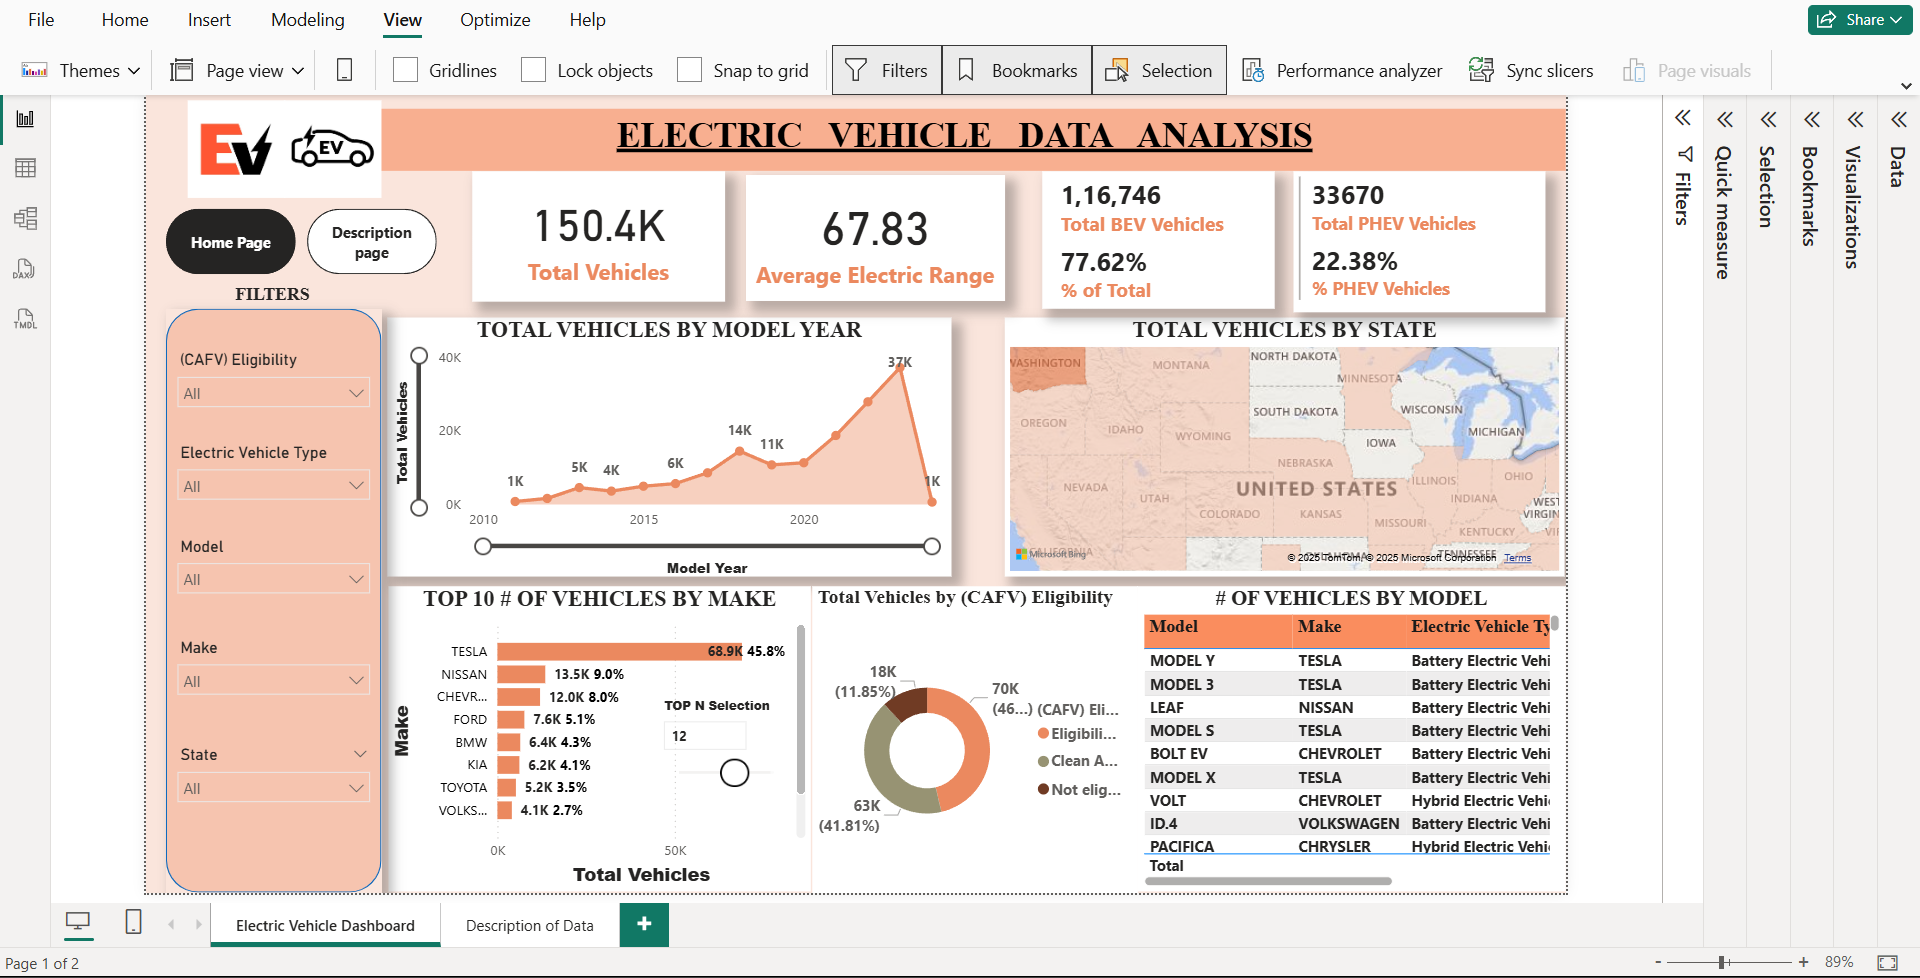

The page's visual inventory and layout, read from the dashboard file:
{"tool":"powerbi","page":{"name":"Electric Vehicle Dashboard","canvas":[1280,720],"ordinal":0},"visuals":[{"type":"areaChart","title":"TOTAL VEHICLES BY MODEL YEAR","fields":{"Category":["Electric_Vehicle_Population_Data.Model Year"],"Y":["Electric_Vehicle_Population_Data.Total Vehicles"]},"box":[218.1,201,508.9,233.8],"z":0},{"type":"clusteredBarChart","title":"TOP 10 # OF VEHICLES BY MAKE","fields":{"Category":["Electric_Vehicle_Population_Data.Make"],"Y":["Electric_Vehicle_Population_Data.Total Vehicles"]},"box":[218.5,443.1,381.1,275.6],"z":1000},{"type":"filledMap","title":"TOTAL VEHICLES BY STATE","fields":{"Category":["Electric_Vehicle_Population_Data.State"]},"box":[774.3,200.6,504.9,233.3],"z":2000},{"type":"donutChart","fields":{"Category":["Electric_Vehicle_Population_Data.Clean Alternative Fuel Vehicle (CAFV) Eligibility"],"Y":["Electric_Vehicle_Population_Data.Total Vehicles"]},"box":[600.4,442.7,293.5,277.6],"z":3000},{"type":"card","fields":{"Values":["Electric_Vehicle_Population_Data.Total Vehicles"]},"box":[294.2,68.8,227.7,117.2],"z":4000},{"type":"card","fields":{"Values":["Electric_Vehicle_Population_Data.Average Electric Range"]},"box":[541,72.1,233.3,113.8],"z":5000},{"type":"multiRowCard","fields":{"Values":["Electric_Vehicle_Population_Data.Total BEV Vehicles","Electric_Vehicle_Population_Data.% BEV Vehicles"]},"box":[808.1,68.8,209.6,124],"z":6000},{"type":"tableEx","title":"# OF VEHICLES BY MODEL","fields":{"Values":["Electric_Vehicle_Population_Data.Model","Electric_Vehicle_Population_Data.Make","Electric_Vehicle_Population_Data.Electric Vehicle Type","Electric_Vehicle_Population_Data.Total Vehicles","Electric_Vehicle_Population_Data.% of Vehicles"]},"box":[893.7,443.1,386,275.6],"z":7000},{"type":"multiRowCard","fields":{"Values":["Electric_Vehicle_Population_Data.Total PHEV Vehicles","Electric_Vehicle_Population_Data.% PHEV Vehicles"]},"box":[1034.7,68.8,227,127],"z":8000},{"type":"textbox","box":[195.7,11.9,1084,56.3],"z":9000},{"type":"image","box":[0,0,163.1,97.9],"z":10000},{"type":"image","box":[1.2,0,335.1,98.1],"z":11000},{"type":"shape","box":[17.8,192.8,194.3,526.4],"z":12000},{"type":"textbox","box":[30.8,165.7,167,33.4],"z":13000},{"type":"slicer","fields":{"Values":["Electric_Vehicle_Population_Data.Clean Alternative Fuel Vehicle (CAFV) Eligibility"]},"box":[17.8,225.4,194.3,71.2],"z":14000},{"type":"slicer","fields":{"Values":["Electric_Vehicle_Population_Data.Electric Vehicle Type"]},"box":[17.8,308.4,194.3,63.8],"z":15000},{"type":"slicer","fields":{"Values":["Electric_Vehicle_Population_Data.Model"]},"box":[17.8,393,194.3,63.8],"z":16000},{"type":"slicer","fields":{"Values":["Electric_Vehicle_Population_Data.Make"]},"box":[17.8,484.9,194.3,83],"z":17000},{"type":"slicer","fields":{"Values":["Electric_Vehicle_Population_Data.State"]},"box":[17.8,581.3,194.3,60.8],"z":18000},{"type":"bookmarkNavigator","box":[18,102.6,245.7,59.7],"z":18002},{"type":"slicer","fields":{"Values":["TOP N Selection.TOP N Selection"]},"box":[454.5,537.3,132.7,105.1],"z":18003}]}

Visuals, with their boxes on the page's 1280x720 design canvas (x1, y1, x2, y2). These are canvas units, not pixel positions in the 1920x978 screenshot, which may show the page scaled, cropped or inside an application window:
"TOTAL VEHICLES BY MODEL YEAR" areaChart: box=[218, 201, 727, 435]
"TOP 10 # OF VEHICLES BY MAKE" clusteredBarChart: box=[218, 443, 600, 719]
"TOTAL VEHICLES BY STATE" filledMap: box=[774, 201, 1279, 434]
donutChart - Electric_Vehicle_Population_Data.Clean Alternative Fuel Vehicle (CAFV) Eligibility x Electric_Vehicle_Population_Data.Total Vehicles: box=[600, 443, 894, 720]
card - Electric_Vehicle_Population_Data.Total Vehicles: box=[294, 69, 522, 186]
card - Electric_Vehicle_Population_Data.Average Electric Range: box=[541, 72, 774, 186]
multiRowCard - Electric_Vehicle_Population_Data.Total BEV Vehicles x Electric_Vehicle_Population_Data.% BEV Vehicles: box=[808, 69, 1018, 193]
"# OF VEHICLES BY MODEL" tableEx: box=[894, 443, 1280, 719]
multiRowCard - Electric_Vehicle_Population_Data.Total PHEV Vehicles x Electric_Vehicle_Population_Data.% PHEV Vehicles: box=[1035, 69, 1262, 196]
textbox: box=[196, 12, 1280, 68]
image: box=[0, 0, 163, 98]
image: box=[1, 0, 336, 98]
shape: box=[18, 193, 212, 719]
textbox: box=[31, 166, 198, 199]
slicer - Electric_Vehicle_Population_Data.Clean Alternative Fuel Vehicle (CAFV) Eligibility: box=[18, 225, 212, 297]
slicer - Electric_Vehicle_Population_Data.Electric Vehicle Type: box=[18, 308, 212, 372]
slicer - Electric_Vehicle_Population_Data.Model: box=[18, 393, 212, 457]
slicer - Electric_Vehicle_Population_Data.Make: box=[18, 485, 212, 568]
slicer - Electric_Vehicle_Population_Data.State: box=[18, 581, 212, 642]
bookmarkNavigator: box=[18, 103, 264, 162]
slicer - TOP N Selection.TOP N Selection: box=[454, 537, 587, 642]
